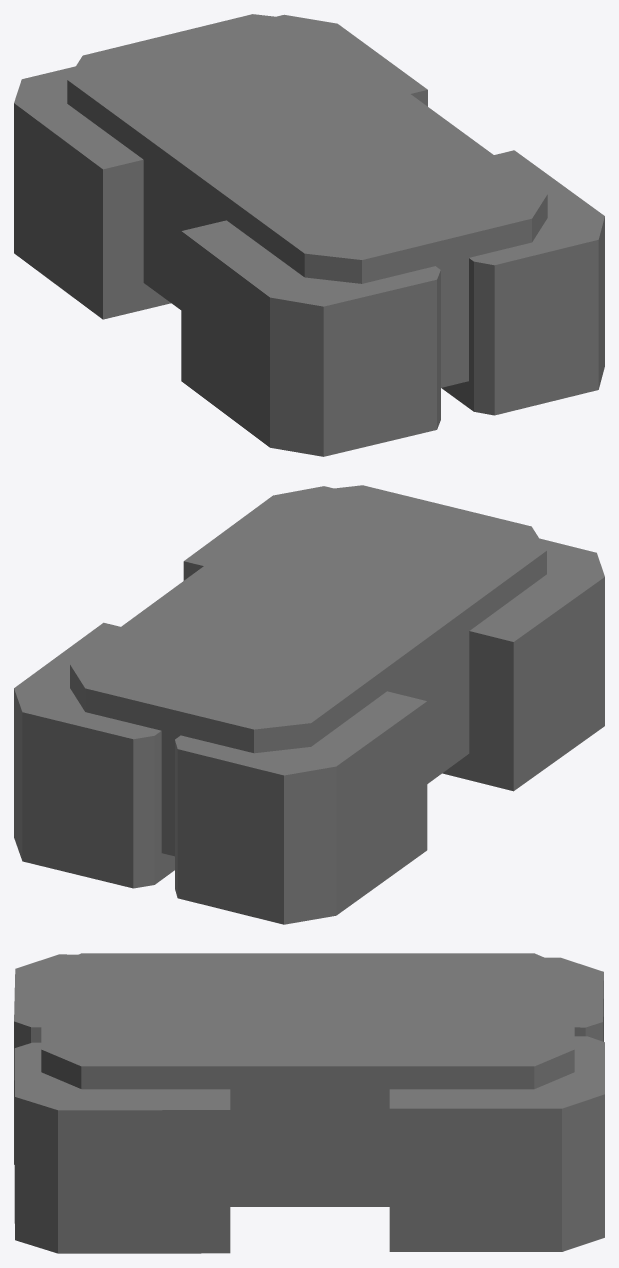
File: Isla.obj
The picture shows the model from 3 angles, top to bottom: view 1: azimuth 30°, elevation 25°; view 2: azimuth 150°, elevation 25°; view 3: azimuth 270°, elevation 25°; orthographic projection. The views are drawn at different scales.
Parts seen in each view (by area): view 1: EstanqueB:pCube4 polySurface3, polySurface4 EstanqueB:pCube4, EstanqueB:pCube4 polySurface5, EstanqueB:pCube4 polySurface2, EstanqueB:pCube4 polySurface1; view 2: EstanqueB:pCube4 polySurface3, EstanqueB:pCube4 polySurface2, EstanqueB:pCube4 polySurface1, polySurface4 EstanqueB:pCube4, EstanqueB:pCube4 polySurface5; view 3: EstanqueB:pCube4 polySurface3, EstanqueB:pCube4 polySurface5, EstanqueB:pCube4 polySurface1, polySurface4 EstanqueB:pCube4, EstanqueB:pCube4 polySurface2.
Boxes of the visible parts, <box> form: EstanqueB:pCube4 polySurface3: <box>67,14,547,387</box>; polySurface4 EstanqueB:pCube4: <box>181,220,440,456</box>; EstanqueB:pCube4 polySurface5: <box>441,150,604,415</box>; EstanqueB:pCube4 polySurface2: <box>14,66,170,319</box>; EstanqueB:pCube4 polySurface1: <box>277,14,427,106</box>; EstanqueB:pCube4 polySurface3: <box>70,485,546,856</box>; EstanqueB:pCube4 polySurface2: <box>175,691,427,924</box>; EstanqueB:pCube4 polySurface1: <box>14,622,174,888</box>; polySurface4 EstanqueB:pCube4: <box>442,538,604,791</box>; EstanqueB:pCube4 polySurface5: <box>183,486,333,580</box>; EstanqueB:pCube4 polySurface3: <box>41,953,574,1206</box>; EstanqueB:pCube4 polySurface5: <box>14,1042,230,1253</box>; EstanqueB:pCube4 polySurface1: <box>389,1036,604,1251</box>; polySurface4 EstanqueB:pCube4: <box>14,954,77,1164</box>; EstanqueB:pCube4 polySurface2: <box>545,957,603,1041</box>.
Size of the model in its own units: 3.96 by 1.97 by 6.35.
1 material, 1 textured.
